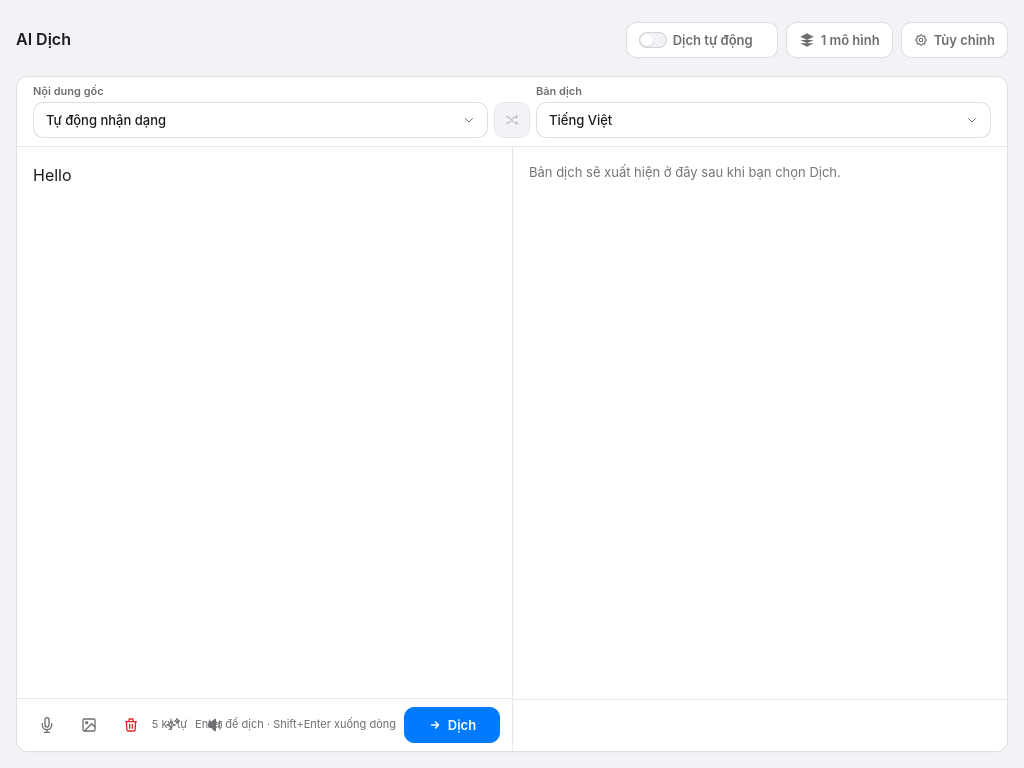
Test case: TranslatePage › localizes structured provider errors instead of rendering backend English
Click the button "Dịch" at (452, 725), box [404,707,500,743]
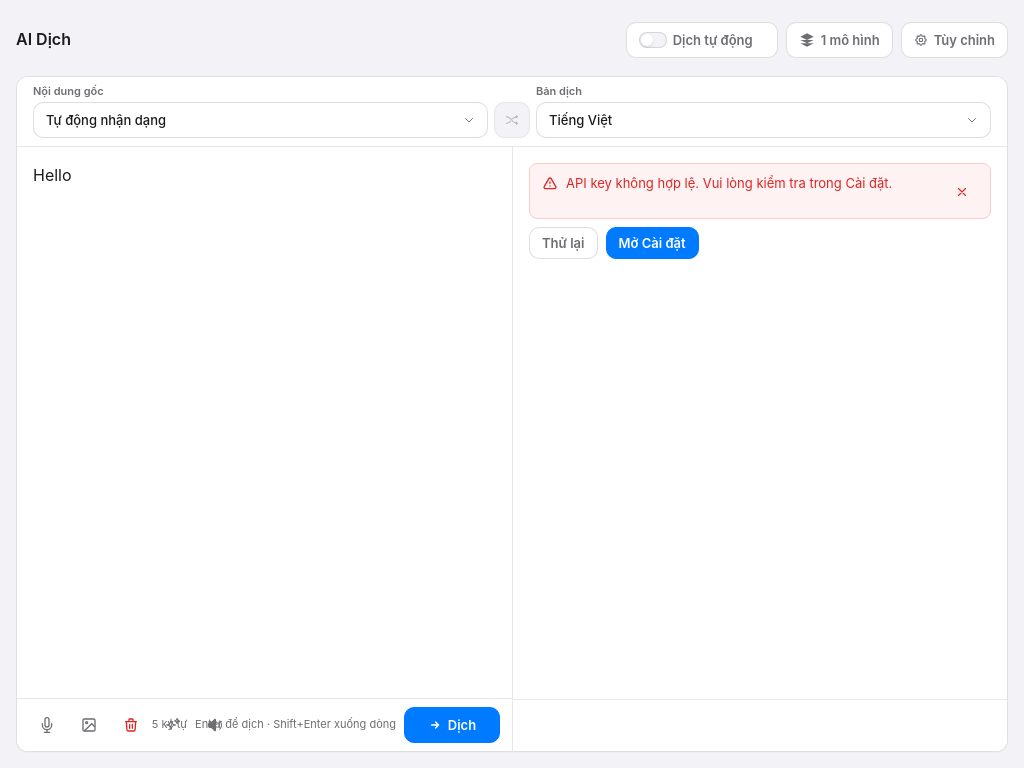
Expected: the text "API key không hợp lệ. Vui lòng kiểm tra trong Cài đặt." is shown, [566,174,938,193]
